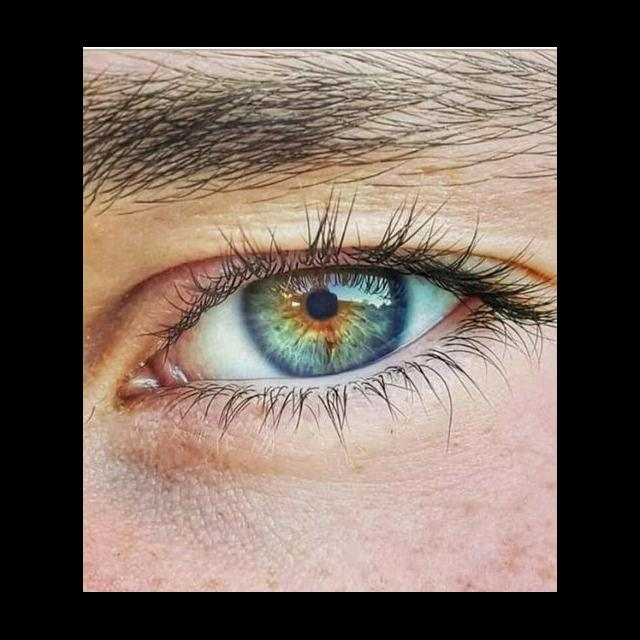eye: (185, 263, 475, 383)
iris: (239, 274, 411, 375)
